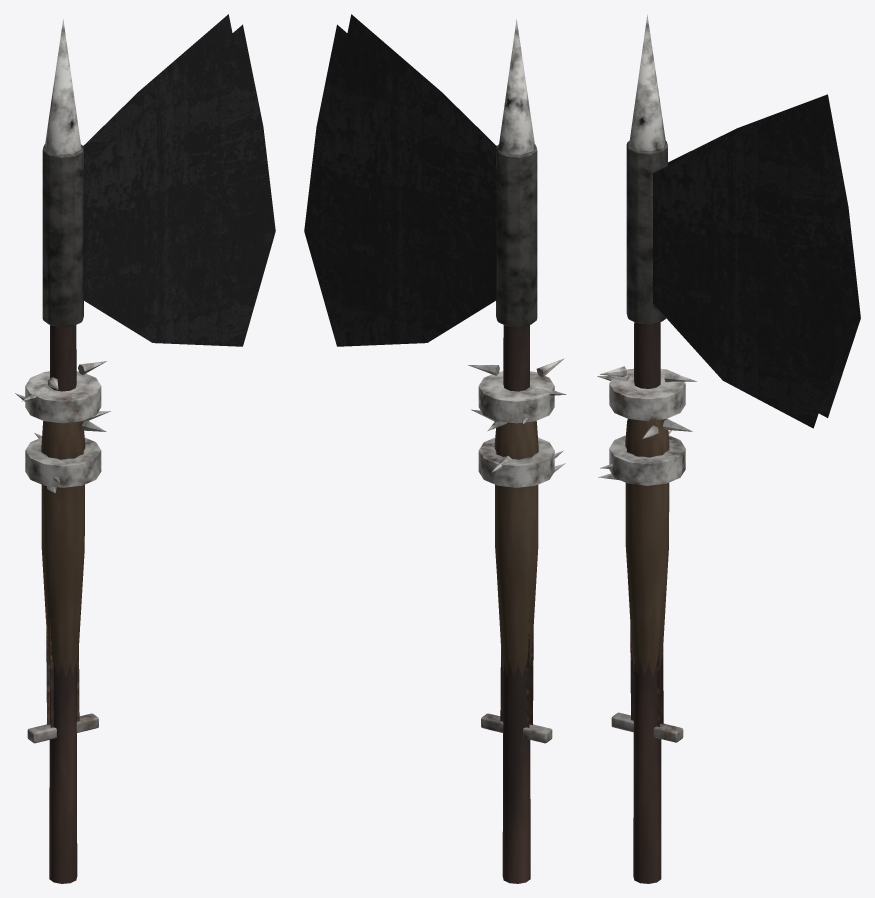
The model's file is weapons.glb.
3 views of the same model, side by side, from view 1: azimuth 30°, elevation 25°; view 2: azimuth 150°, elevation 25°; view 3: azimuth 330°, elevation 25° (orthographic).
Visible parts, largest first — view 1: bossaxe, club, gsword; view 2: bossaxe, club, gsword; view 3: bossaxe, club, gsword.
Boxes of the visible parts, x1,y1,x2,y2 form: bossaxe: (42, 14, 275, 883); club: (15, 361, 110, 677); gsword: (27, 606, 98, 743); bossaxe: (304, 14, 537, 883); club: (468, 358, 566, 677); gsword: (481, 606, 552, 743); bossaxe: (626, 15, 860, 883); club: (597, 366, 696, 676); gsword: (611, 625, 683, 742).
Bounding box in the file's own units: 0.6133 × 2 × 0.2176.
Materials: 1 (1 with a texture image).
